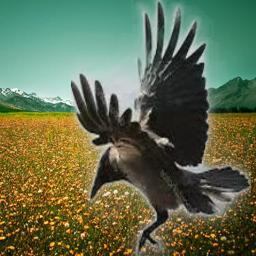Crow: (71, 0, 251, 256)
